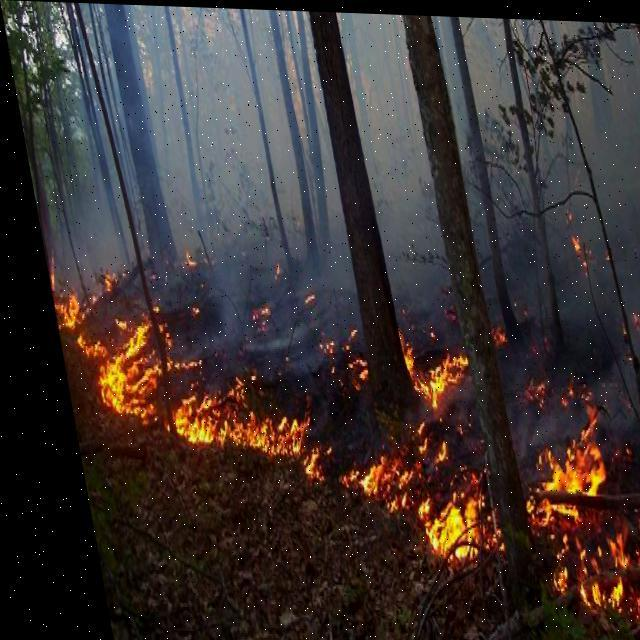Fire: (510, 412, 639, 639), (70, 309, 208, 442), (348, 416, 476, 548)
